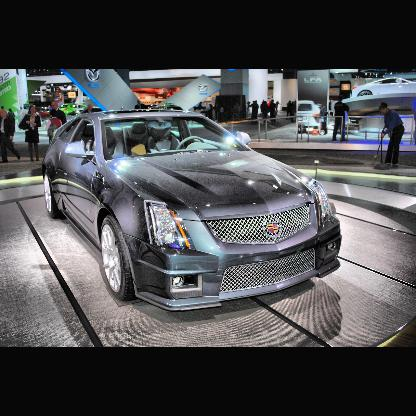Cadillac CTS-V Sedan 2012: (44, 111, 344, 314)
